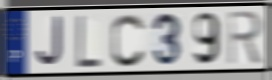3: (149, 11, 185, 68)
9: (193, 11, 221, 67)
C: (110, 12, 147, 70)
J: (35, 15, 65, 69)
L: (75, 13, 102, 69)
R: (227, 9, 264, 67)
